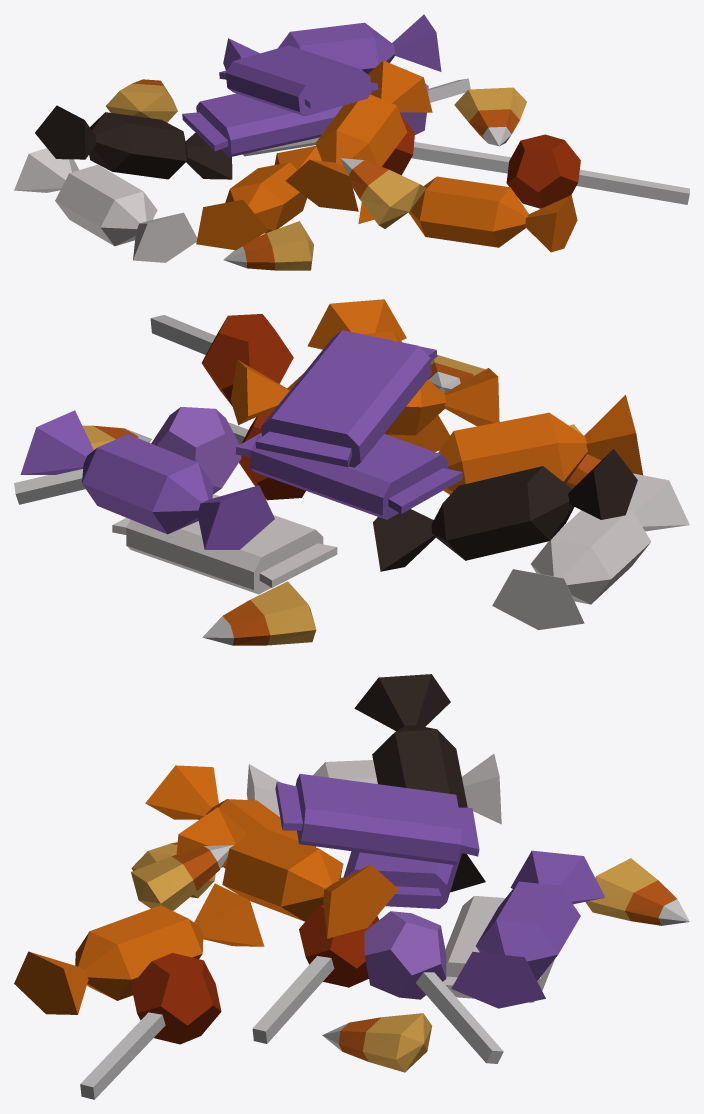
File: pile-of-wrapped-candy-7fe300.glb
The picture shows the model from 3 angles, top to bottom: view 1: azimuth 30°, elevation 25°; view 2: azimuth 150°, elevation 25°; view 3: azimuth 270°, elevation 25°; orthographic projection. The views are drawn at different scales.
Visible parts, largest first — view 1: candy-heap; view 2: candy-heap; view 3: candy-heap.
Part boxes in pixels (bbox=[...]): candy-heap: bbox=[14, 14, 689, 270]; candy-heap: bbox=[14, 299, 689, 645]; candy-heap: bbox=[14, 674, 689, 1099].
Size of the model in its own units: 0.3936 by 0.0918 by 0.3729.
